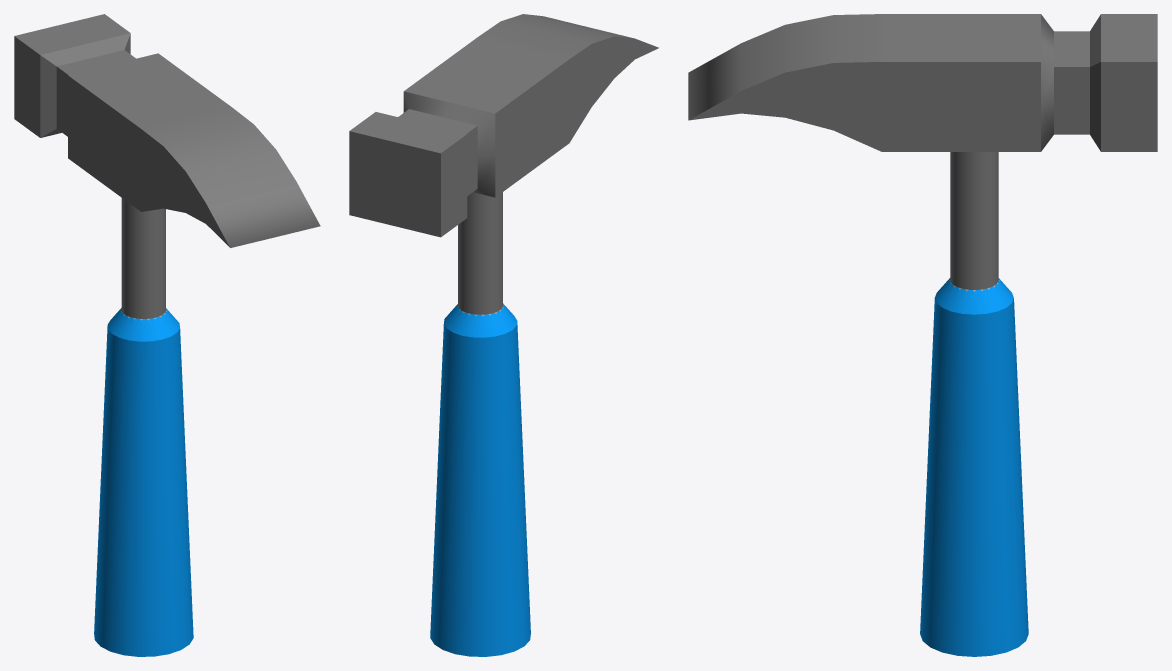
The model's file is hammar.fbx.
3 views of the same model, side by side, from view 1: azimuth 30°, elevation 25°; view 2: azimuth 150°, elevation 25°; view 3: azimuth 270°, elevation 25° (orthographic). The views are drawn at different scales.
Parts seen in each view (by area): view 1: polySurface2; view 2: polySurface2; view 3: polySurface2.
Boxes of the visible parts, <box> form: polySurface2: <box>14,14,320,656</box>; polySurface2: <box>349,14,658,656</box>; polySurface2: <box>688,14,1157,656</box>.
Bounding box in the file's own units: 0.3776 × 2.19 × 1.56.
